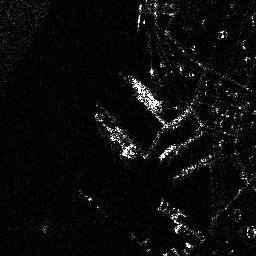ship: (94, 109, 140, 163), (120, 72, 164, 111)
